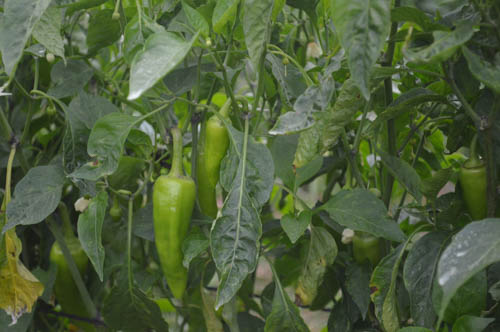ChiliPepper: (150, 178, 194, 300), (48, 240, 92, 327), (193, 119, 228, 220), (462, 163, 489, 232), (351, 233, 387, 279)
